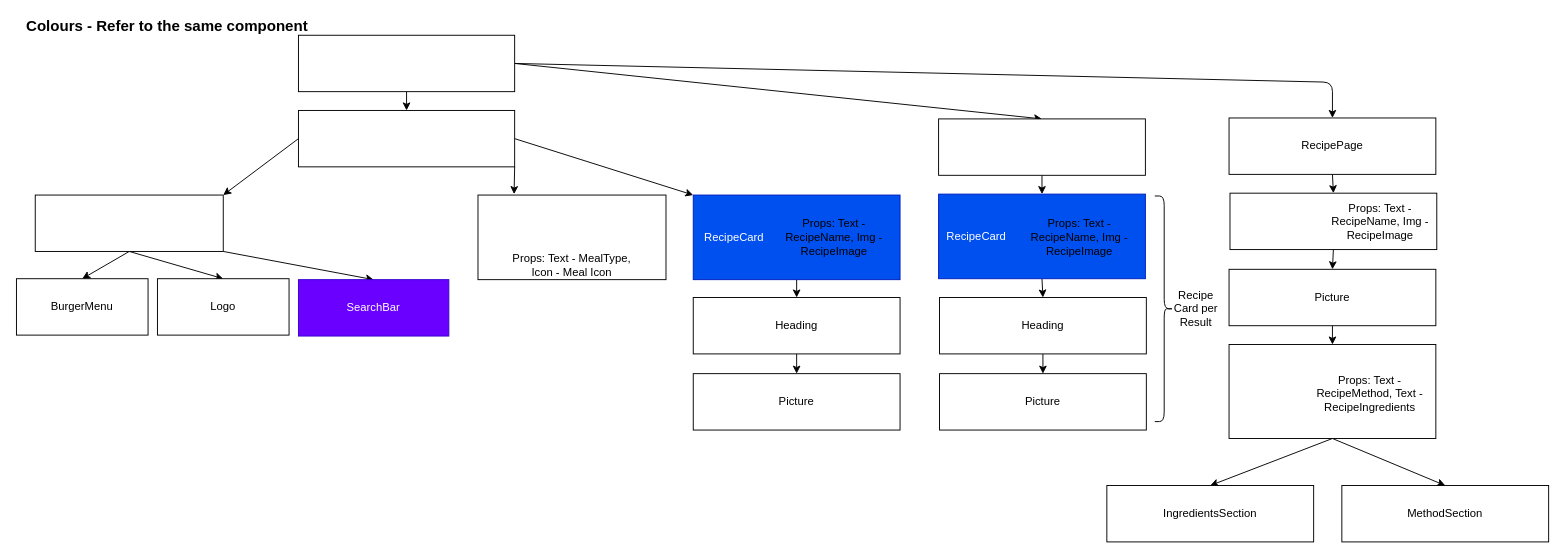
The diagram is 1565 pixels wide and 558 high, and some of its shapes have lost their labels. The shapes that lost their labels are listed below. From the top down, each one's box as (x1, y1, x2, y2) in pixels, then its label:
(298, 34, 515, 92): App
(298, 110, 515, 167): Home
(938, 118, 1145, 175): SearchResults
(34, 194, 223, 251): NavBar
(477, 194, 666, 280): PreSetButtons x4
(1229, 192, 1437, 250): HeroImage/video
(1228, 344, 1436, 439): RecipeSection
